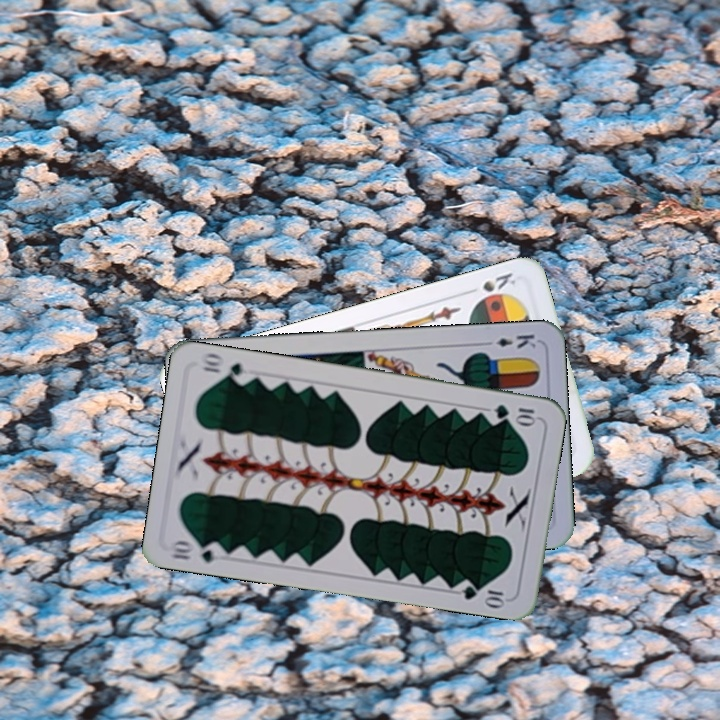EK: (479, 330, 539, 351)
G10: (166, 536, 227, 565), (490, 400, 540, 427)
SK: (478, 268, 519, 295)
